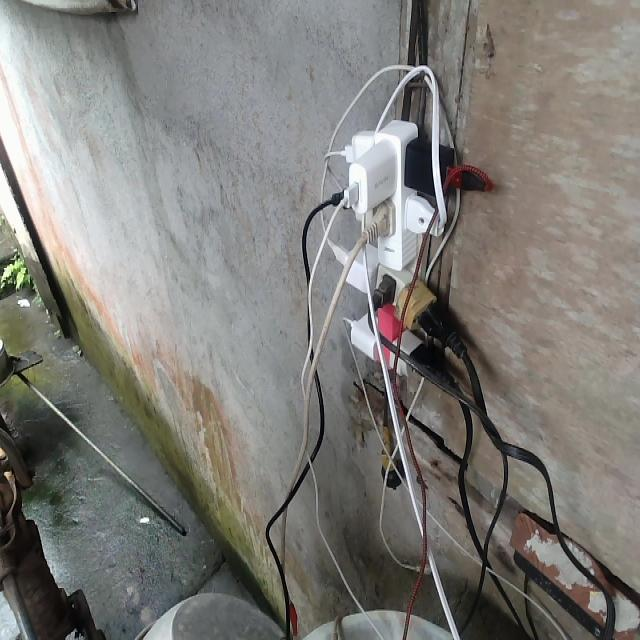-: (323, 117, 472, 386)
